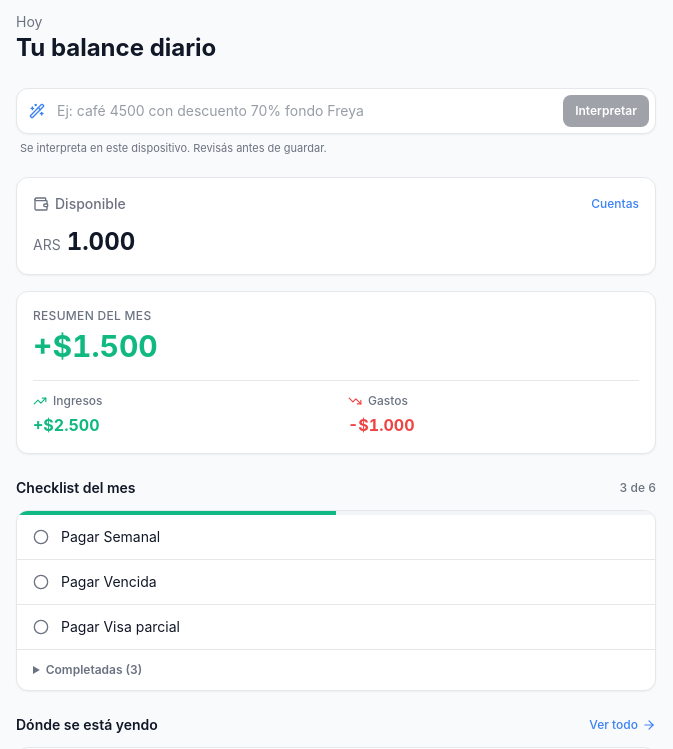
Test: Dashboard monthly checklist › expands and collapses completed tasks
Expected: the text "Pagar Internet" is not shown
What coordinates should you click on to do the following:
click the heading "Completadas (3)"
I would click on:
 (94, 669)
Its box is [46,662,142,676].
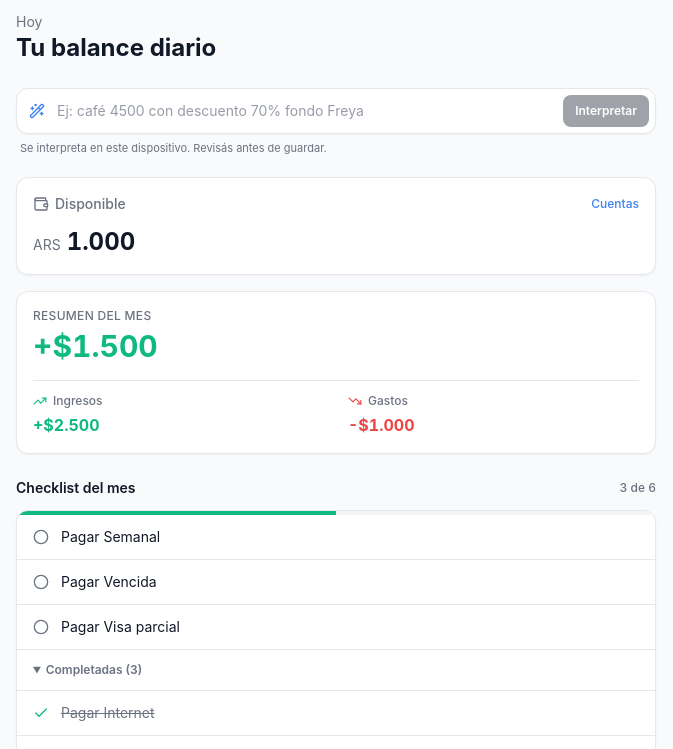
Now the text "Pagar Internet" is shown, box [61,702,155,722]
What coordinates should you click on to do the following:
click the heading "Completadas (3)"
I would click on:
 (94, 669)
Its box is [46,662,142,676].
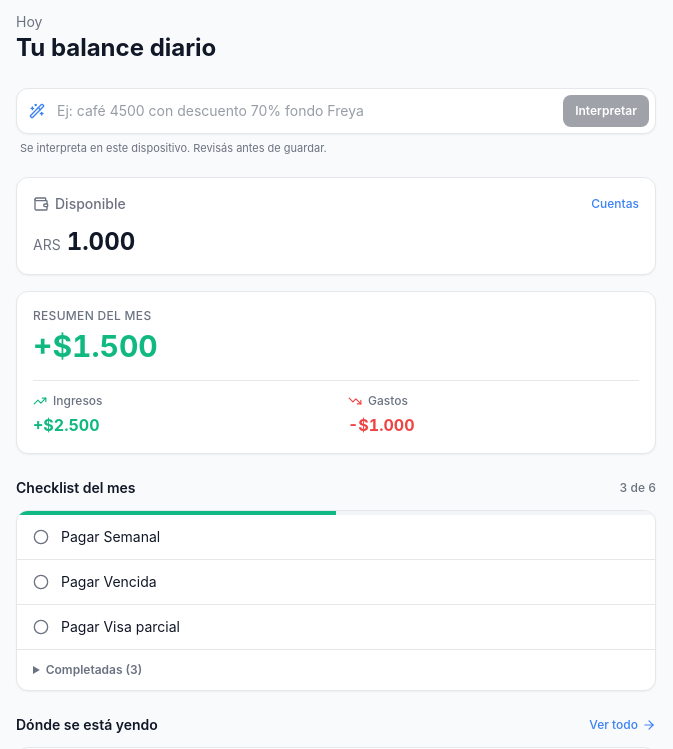
Now the text "Pagar Internet" is gone
